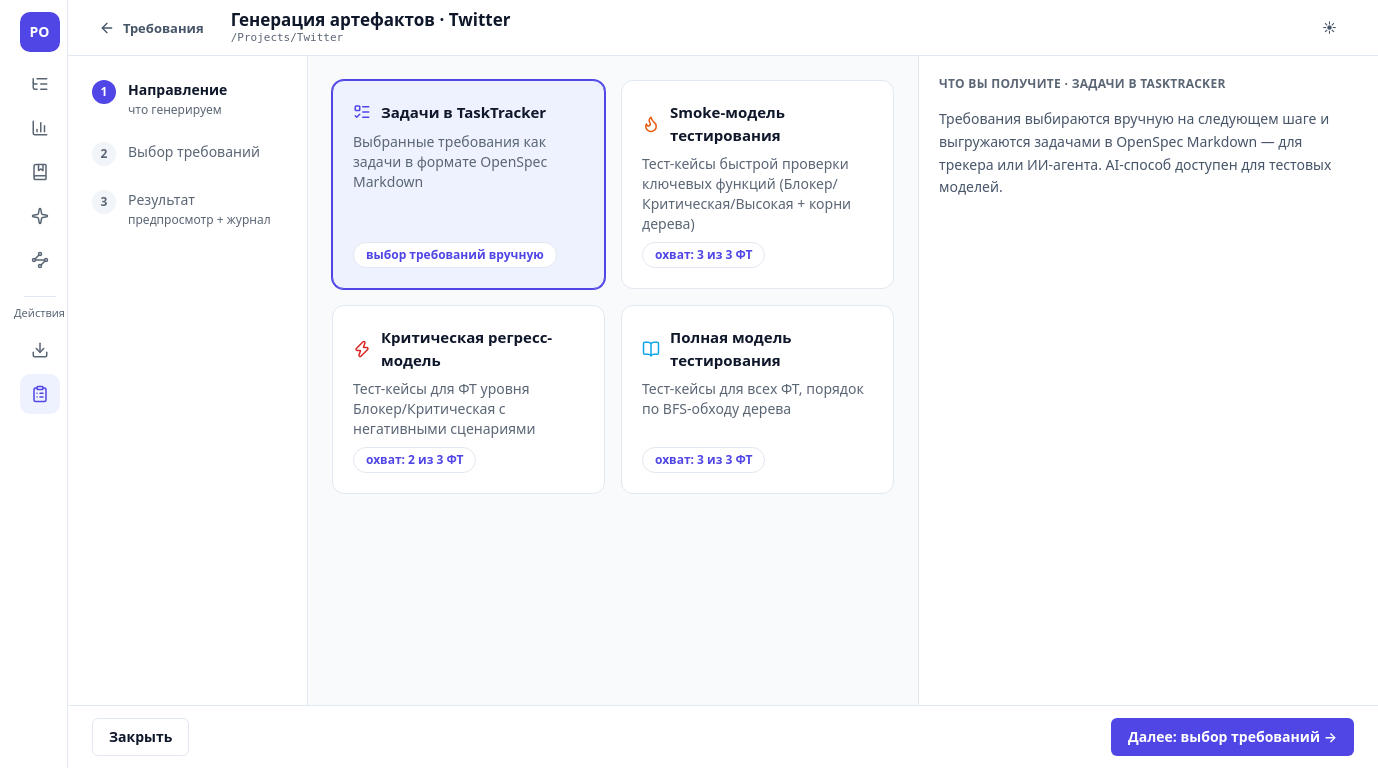
Test: Г1 — направление › правая панель меняется вместе с выбранным направлением
Click the button with test id "export-tasks-dir-smoke" at (758, 184), box [621,80,894,289]
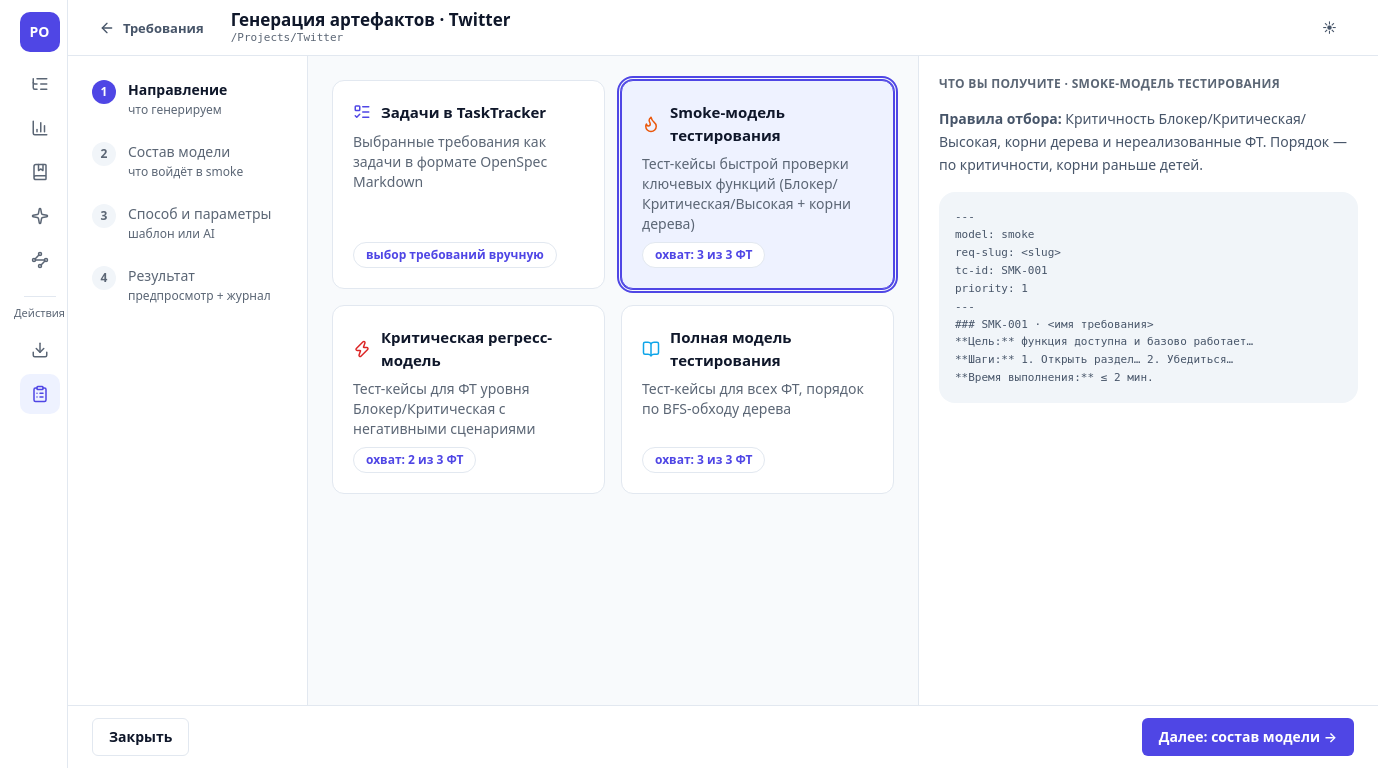
Expected: the text with test id "gen-sample" shows "tc-id: SMK-001", [955,210,1253,384]
Click the button with test id "export-tasks-dir-full" at (758, 400), box [621,305,894,494]
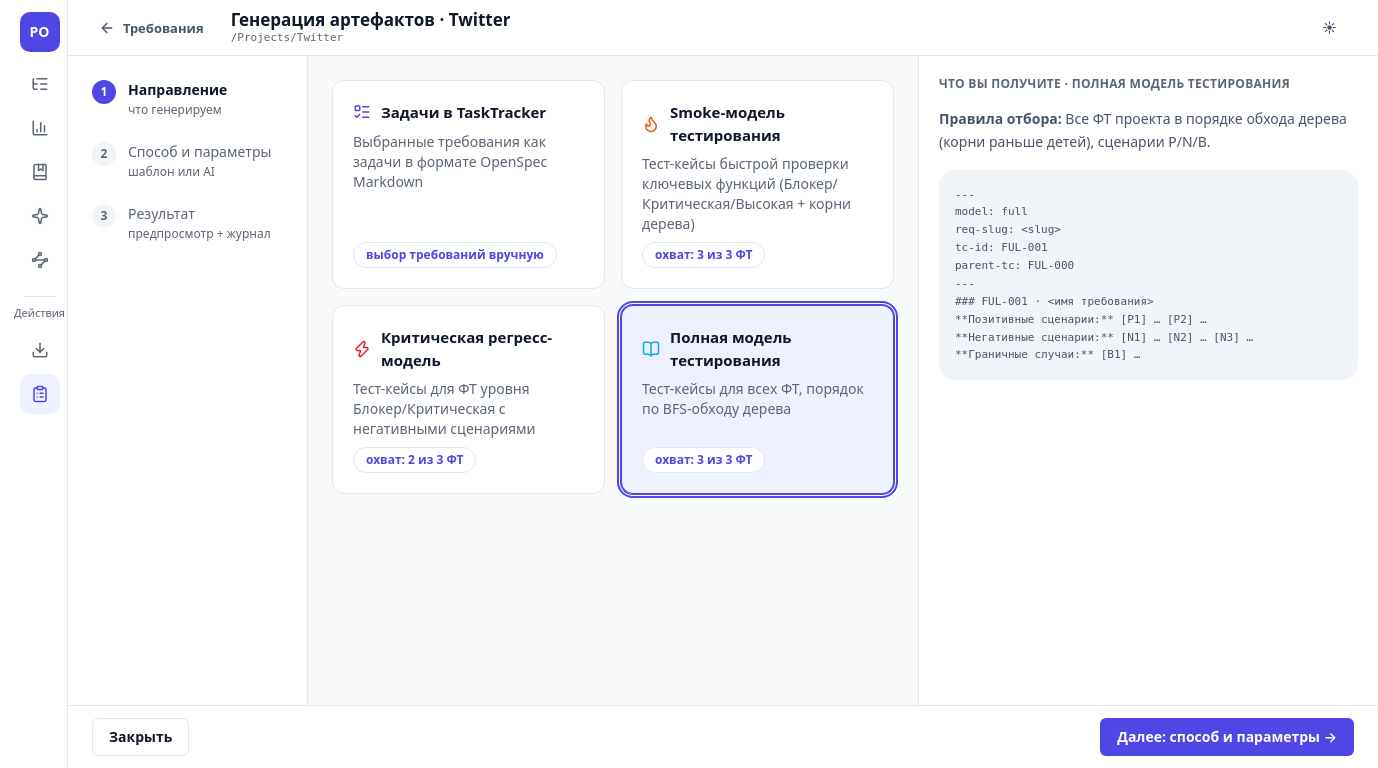
Expected: the text with test id "gen-sample" shows "tc-id: FUL-001", [955,188,1253,361]
